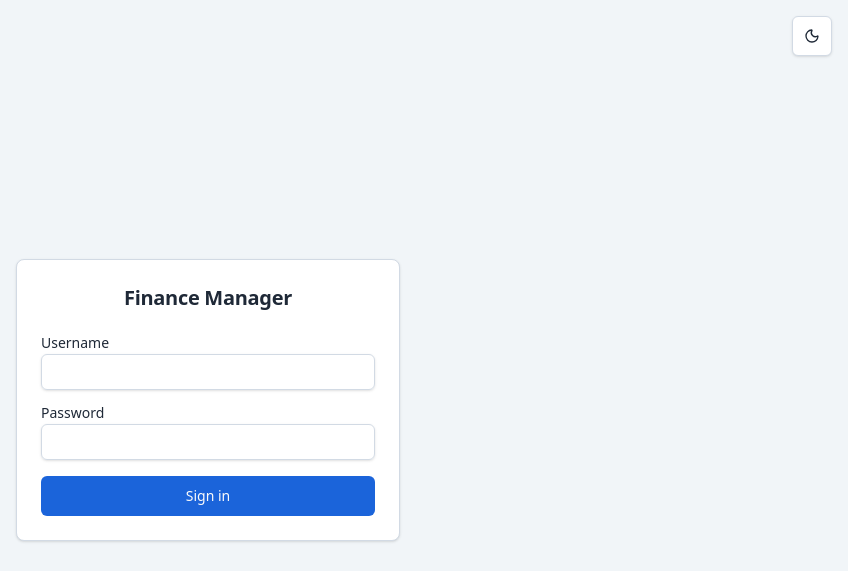
Test: LoginPage — client-side validation (Req 1.3) › shows error when username is too short (< 3 chars)
This screenshot has width=848, height=571.
Type "ab" into the field labelled "Username" at [208, 372], box [41,354,375,390]
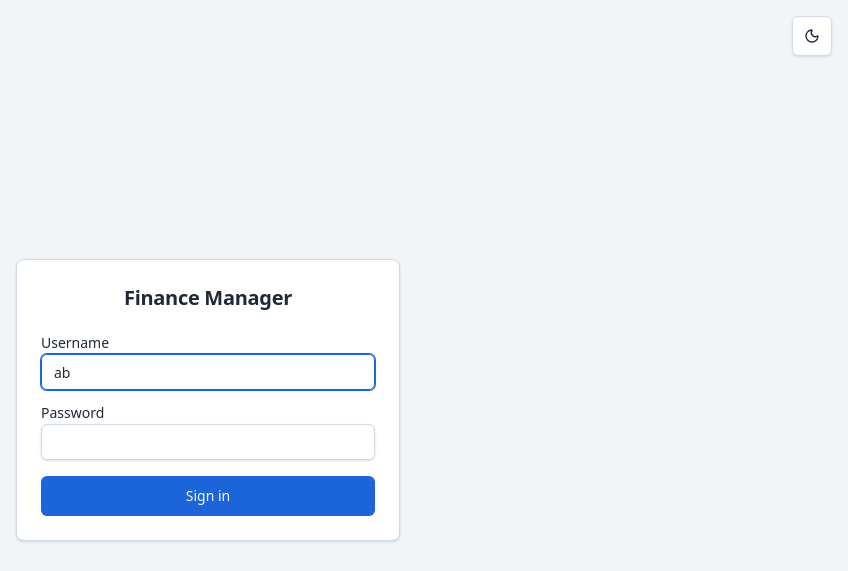
Type "ValidPass1" into the password field labelled "Password" at [208, 442], box [41,424,375,460]
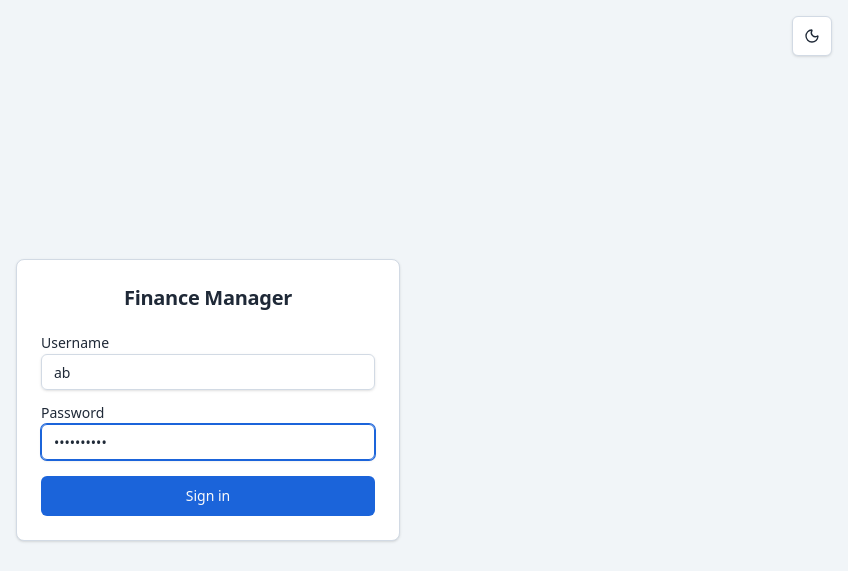
Click the button "Sign in" at [208, 496], box [41,476,375,516]
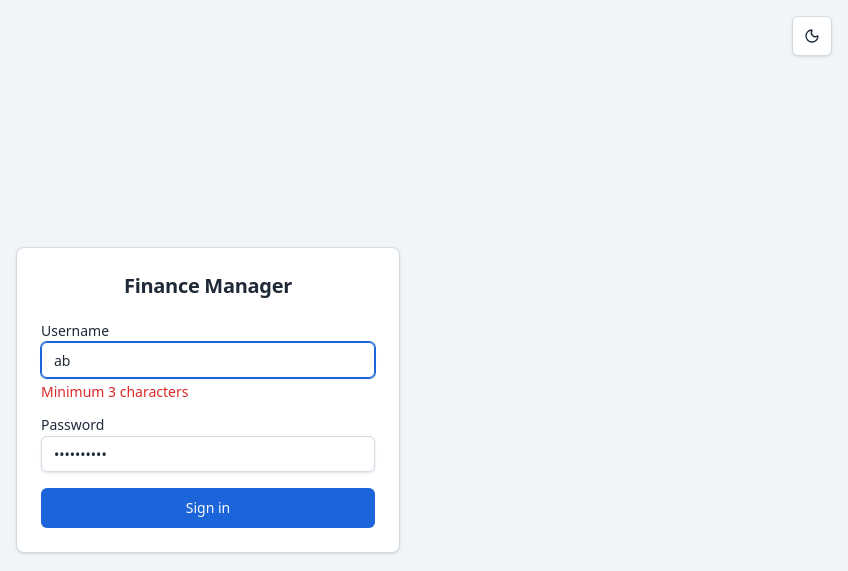
Now the text "Minimum 3 characters" is shown, box [41,382,188,401]
